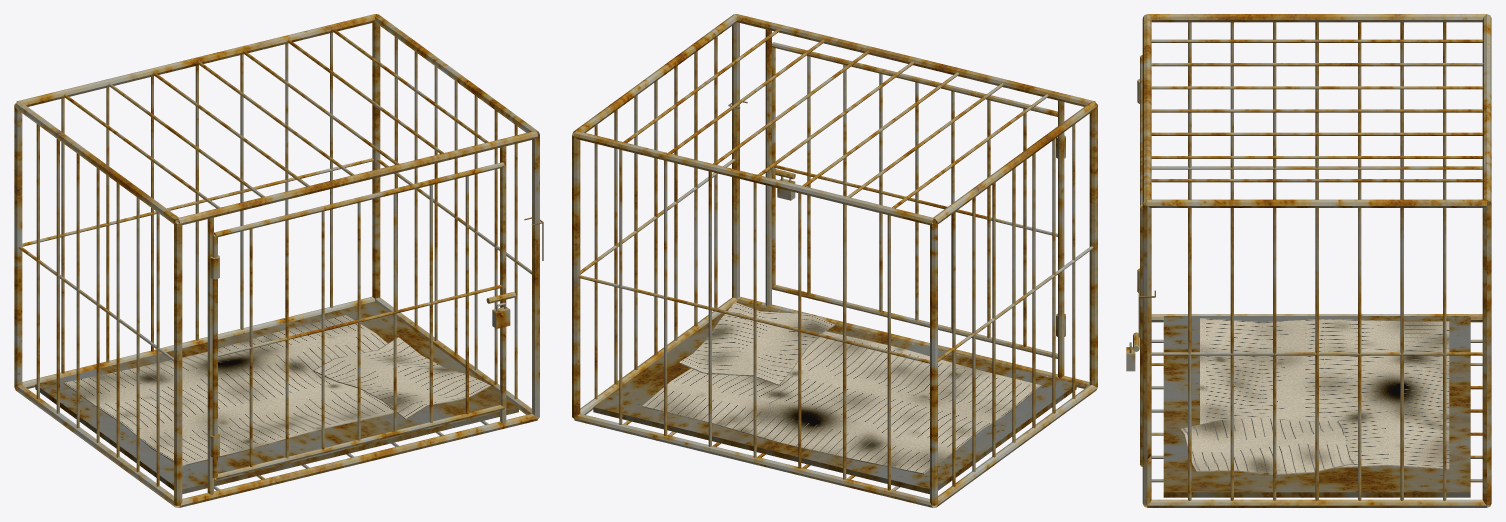
Rendered from long_cho.glb.
3 renders of one model, left to right at view 1: azimuth 30°, elevation 25°; view 2: azimuth 150°, elevation 25°; view 3: azimuth 270°, elevation 25°, orthographic. The views are drawn at different scales.
Visible parts, largest first — view 1: cage_fixed, cage_door; view 2: cage_fixed, cage_door; view 3: cage_fixed, cage_door.
Boxes of the visible parts, x1=… form: cage_fixed: x1=14, y1=14, x2=543, y2=507; cage_door: x1=212, y1=162, x2=515, y2=479; cage_fixed: x1=572, y1=14, x2=1097, y2=507; cage_door: x1=772, y1=42, x2=1057, y2=358; cage_fixed: x1=1137, y1=14, x2=1491, y2=507; cage_door: x1=1126, y1=55, x2=1142, y2=466.
Size of the model in its own units: 0.9005 by 0.682 by 0.733.
Materials: 1 (1 with a texture image).
